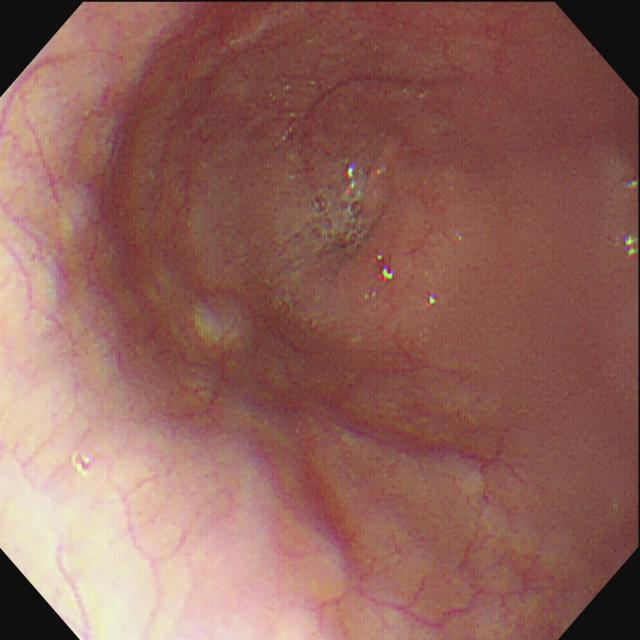T: (294, 192, 376, 257), (71, 445, 99, 481)
U: (375, 252, 396, 283), (625, 235, 640, 260), (345, 165, 357, 191)
